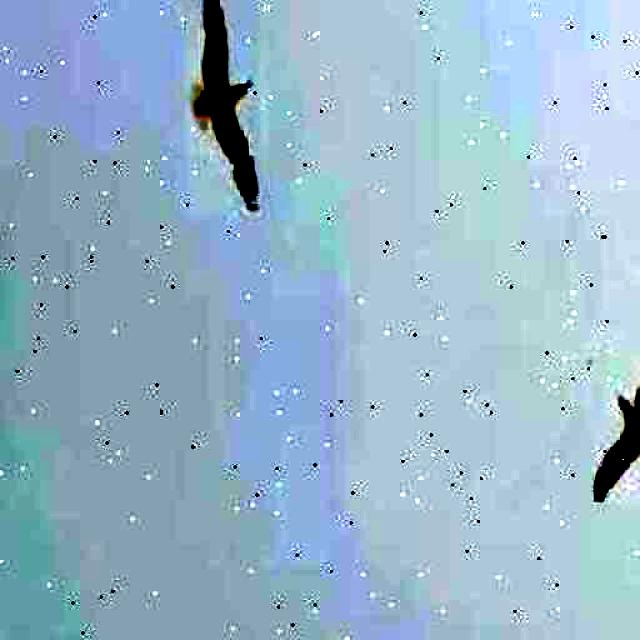airplane: (184, 0, 260, 216), (592, 354, 640, 504)
